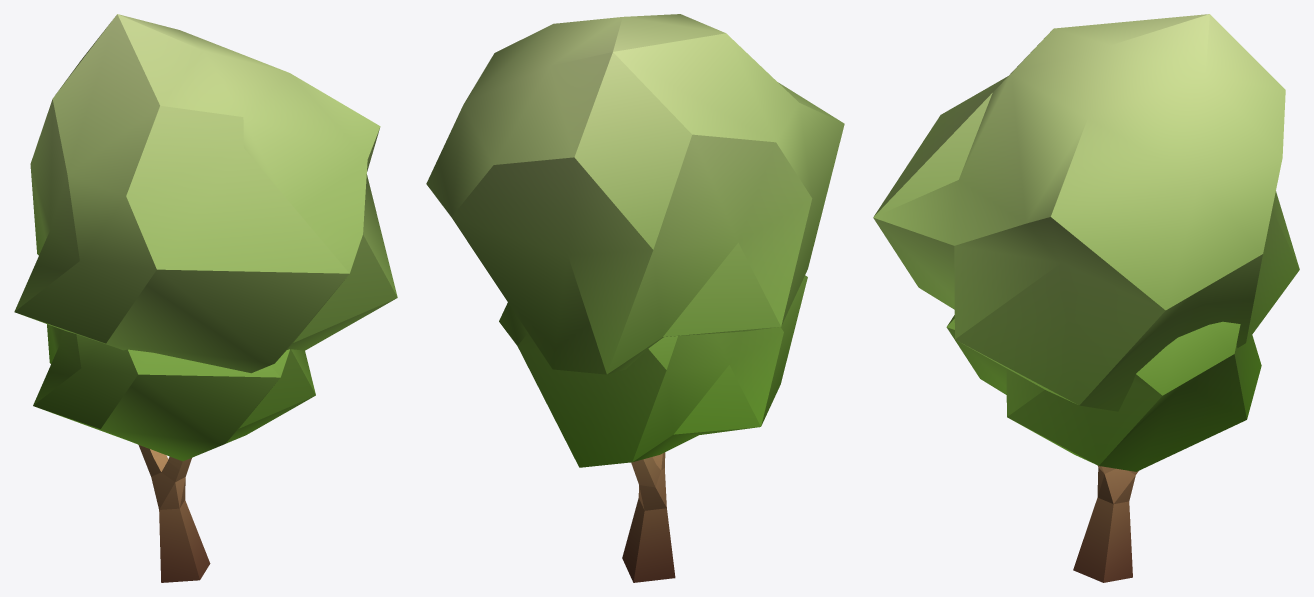
The model's file is oak1.fbx.
3 views of the same model, side by side, from view 1: azimuth 30°, elevation 25°; view 2: azimuth 150°, elevation 25°; view 3: azimuth 270°, elevation 25° (orthographic). The views are drawn at different scales.
Parts seen in each view (by area): view 1: Cube; view 2: Cube; view 3: Cube.
Part boxes in pixels (bbox=[...]): Cube: bbox=[14, 14, 397, 582]; Cube: bbox=[426, 14, 844, 582]; Cube: bbox=[873, 14, 1299, 582].
Size of the model in its own units: 839 by 1299 by 906.
2 materials, 2 textured.
